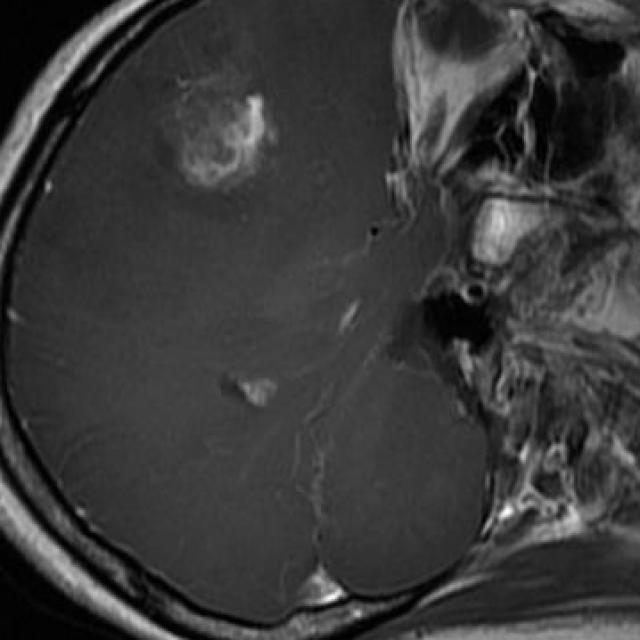glioma: (168, 71, 273, 189)
